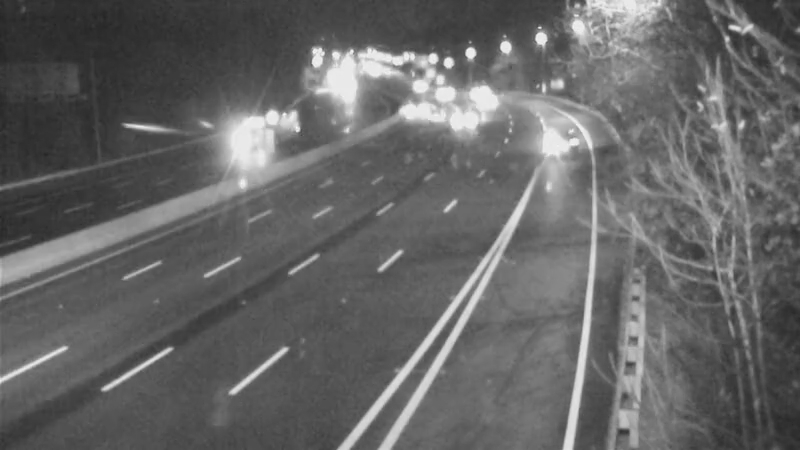vehicle: (392, 64, 442, 114), (456, 69, 506, 119), (419, 67, 469, 117), (467, 79, 517, 129), (382, 86, 432, 136), (404, 93, 454, 143), (429, 96, 479, 146), (539, 121, 589, 171), (221, 115, 271, 165)
